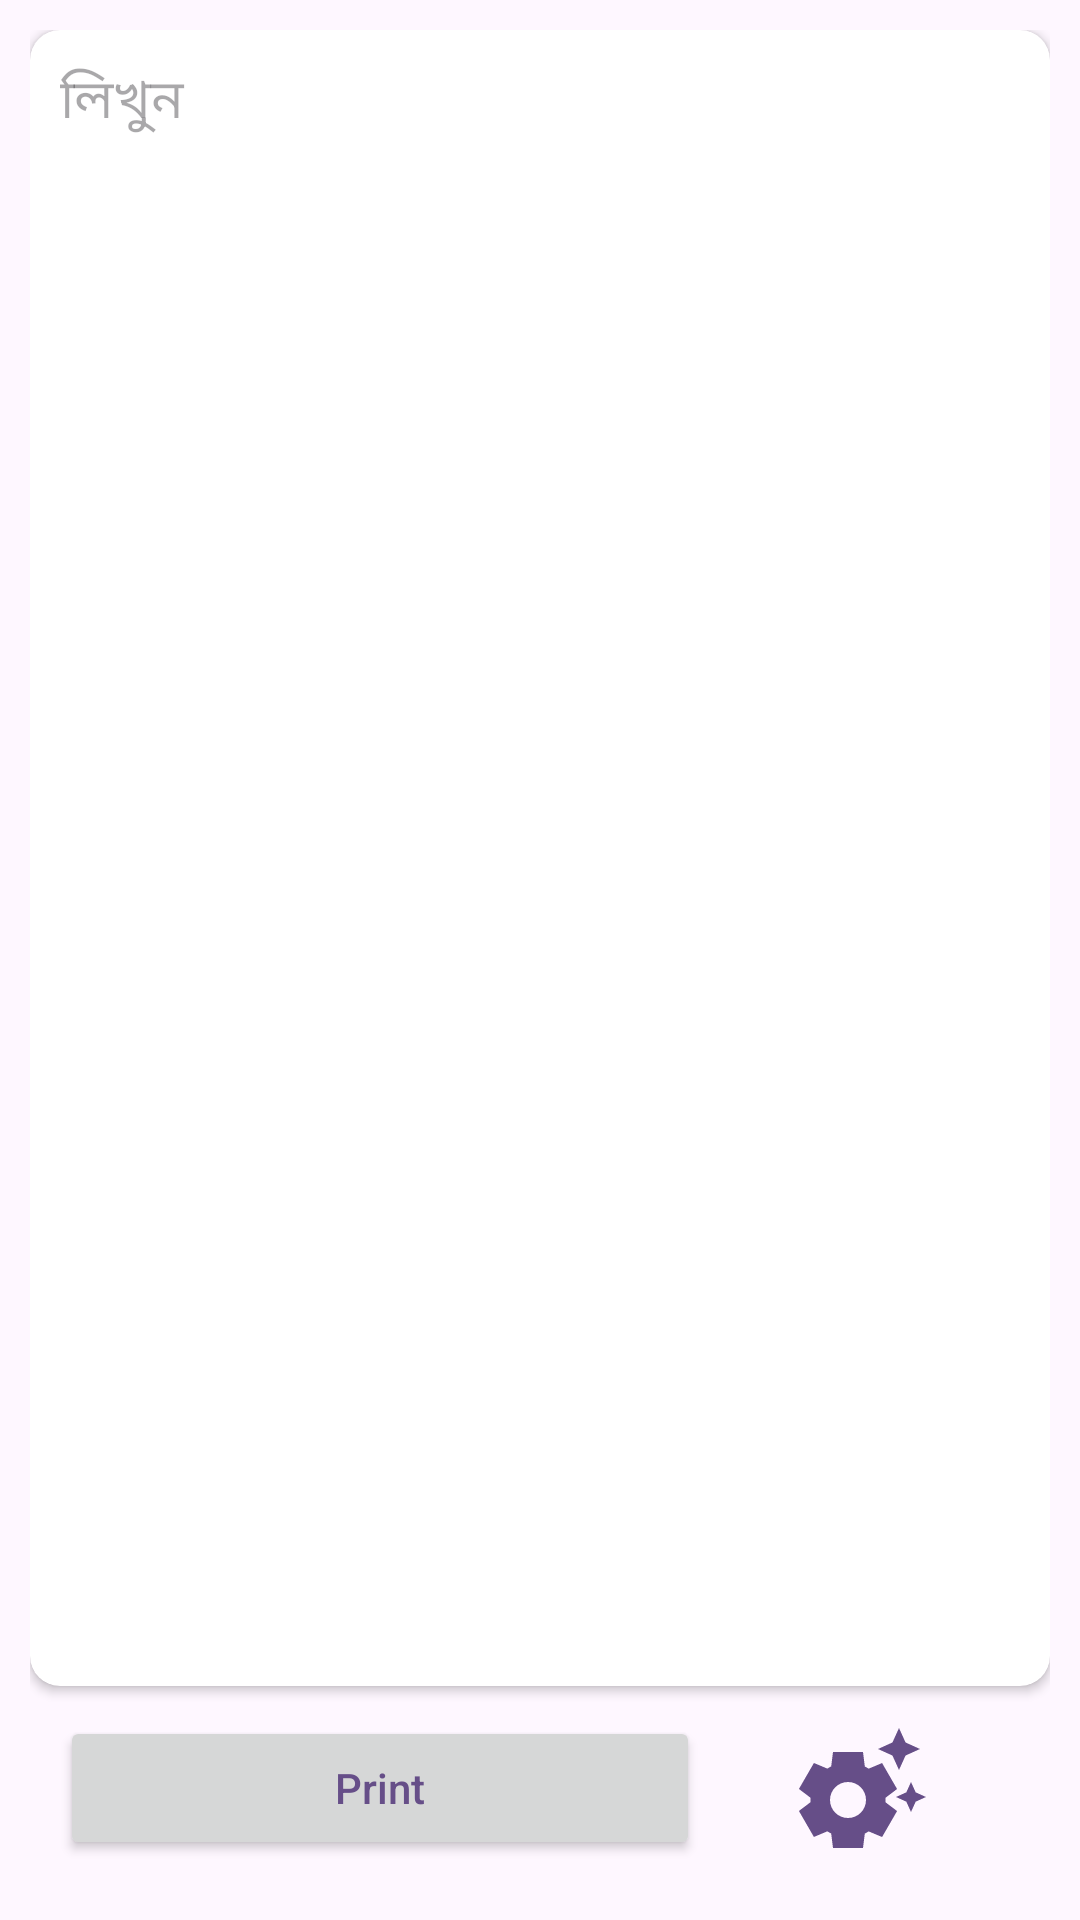

Named icons in this screenshot (1080 x 1920) and their bounding boxes, (x1, y1, x2, y2):
setting: (799, 1728, 926, 1848)
